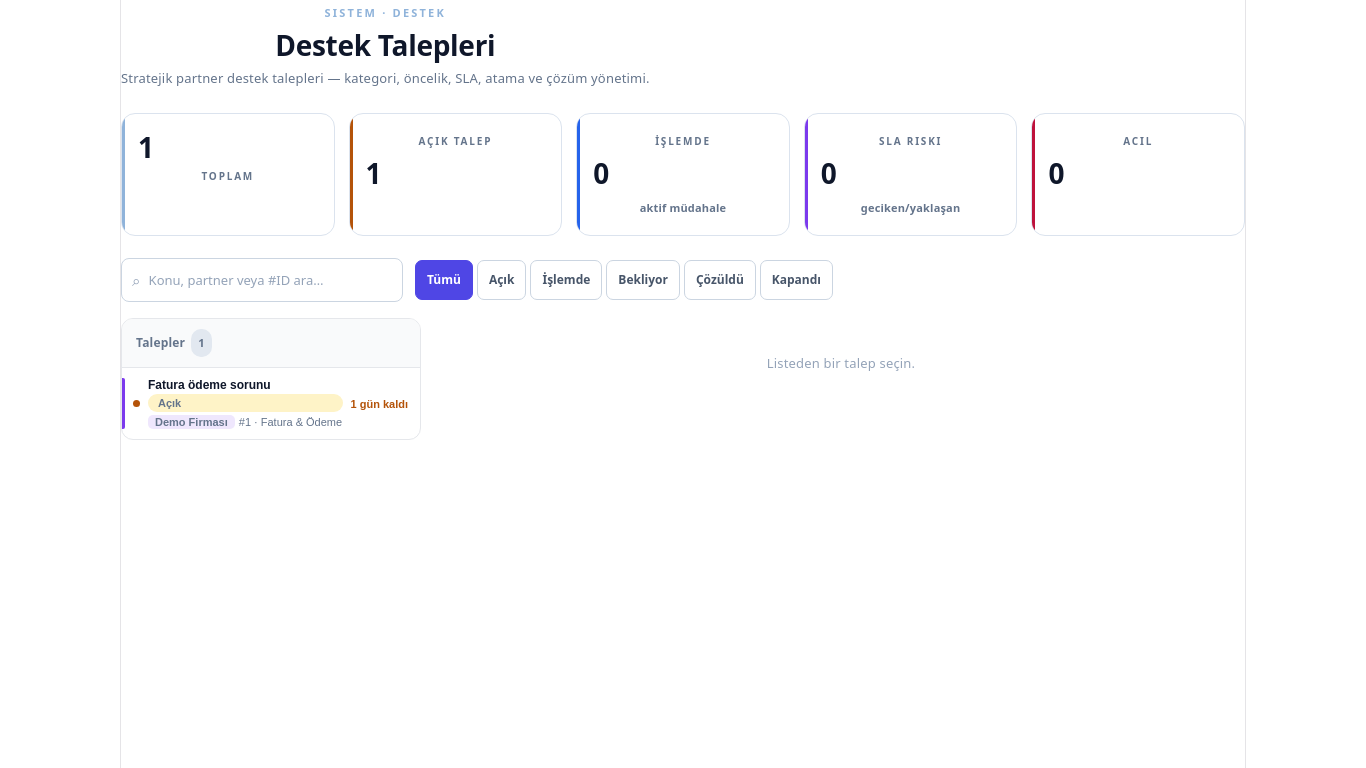
Test: SupportTicketAdminTab › talep satırına tıklayınca inline form açılır
// Satıra tıkla → form açılmalı
Click the text "Fatura ödeme sorunu Açık".
click(245, 395)  # box [148,378,342,412]
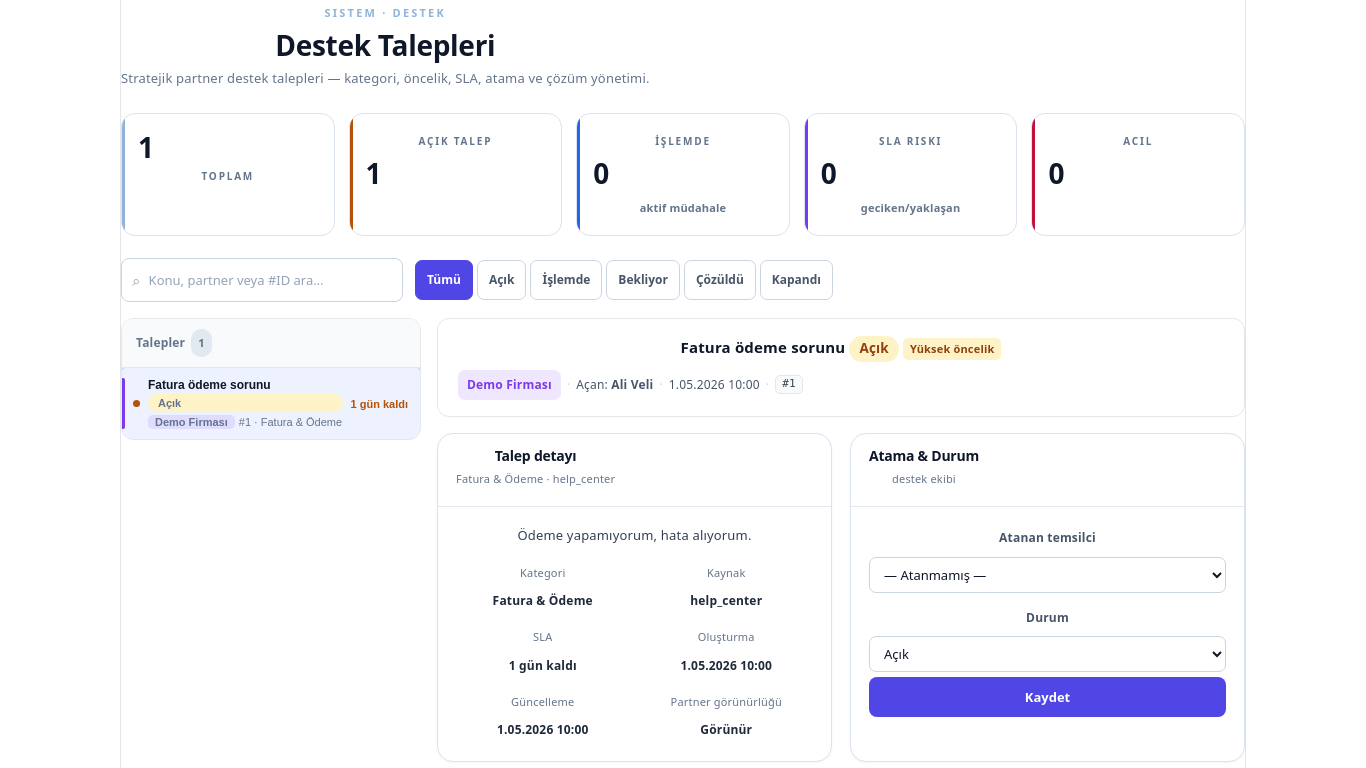
Check: the button "Kaydet" is shown, box [869,677,1226,717]
